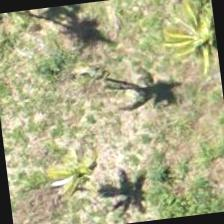Kelapa_Sawit: (49, 31, 149, 132), (34, 120, 134, 220), (156, 0, 222, 86)
